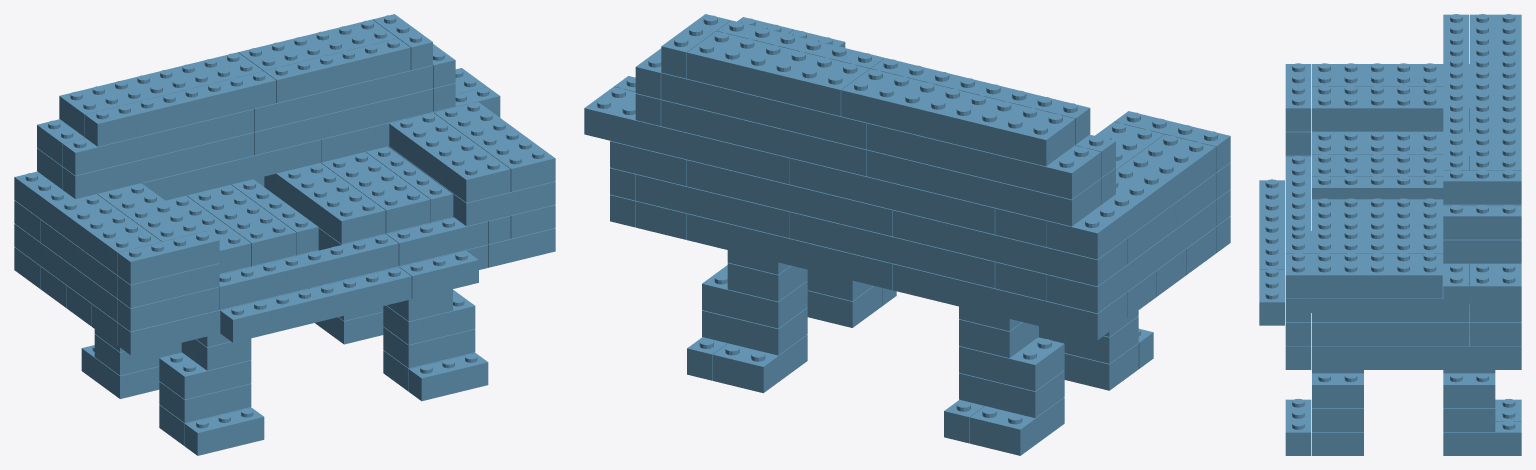
File: 212_sofa_L2.glb
The picture shows the model from 3 angles, left to right: view 1: azimuth 30°, elevation 25°; view 2: azimuth 150°, elevation 25°; view 3: azimuth 270°, elevation 25°; orthographic projection. The views are drawn at different scales.
Bounding box in the file's own units: 19.98 × 12.13 × 9.98.
